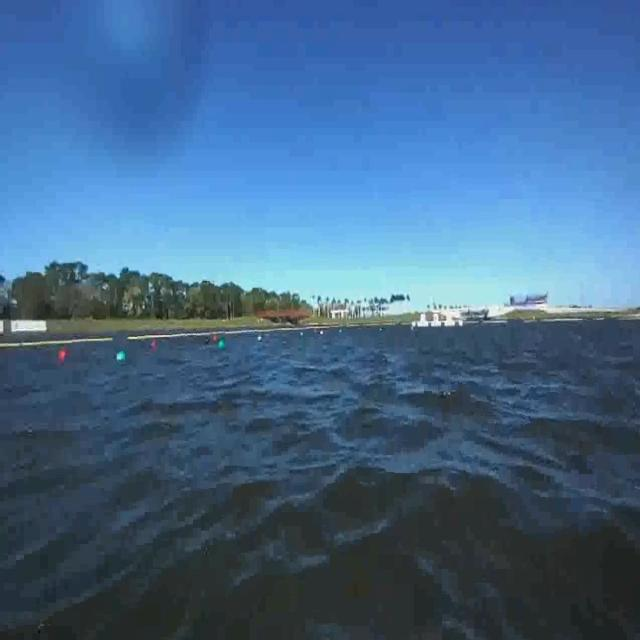green-buoy: (115, 347, 128, 367)
red-buoy: (56, 346, 73, 362)
